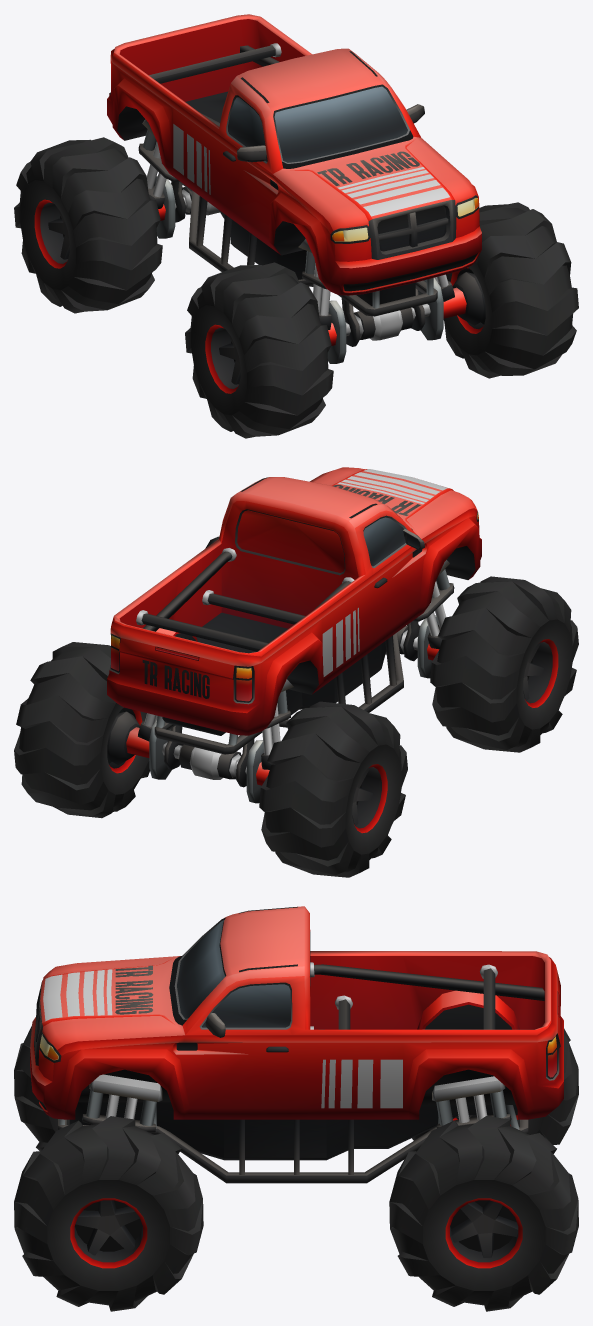
Rendered from Monster_Truck_12A.fbx.
3 views of the same model, one above another, from view 1: azimuth 30°, elevation 25°; view 2: azimuth 150°, elevation 25°; view 3: azimuth 270°, elevation 25° (orthographic). The views are drawn at different scales.
Visible parts, largest first — view 1: Monster_Truck_12A_Body, Wheel_12A_R.R, Wheel_12A_F.R, Wheel_12A_F.L, Monster_Truck_12A_Livery, Monster_Truck_12A_Suspension.F.L, Monster_Truck_12A_Suspension.R.R, Monster_Truck_12A_Suspension.F.R; view 2: Monster_Truck_12A_Body, Wheel_12A_F.R, Wheel_12A_R.R, Wheel_12A_R.L, Monster_Truck_12A_Livery, Monster_Truck_12A_Suspension.R.L, Monster_Truck_12A_Suspension.F.R, Monster_Truck_12A_Suspension.R.R; view 3: Monster_Truck_12A_Body, Wheel_12A_R.L, Wheel_12A_F.L, Monster_Truck_12A_Livery, Monster_Truck_12A_Suspension.F.L, Monster_Truck_12A_Suspension.R.L, Wheel_12A_F.R, Wheel_12A_R.R.
Part boxes in pixels (bbox=[...]): Monster_Truck_12A_Body: bbox=[107, 14, 481, 346]; Wheel_12A_R.R: bbox=[14, 137, 162, 313]; Wheel_12A_F.R: bbox=[185, 262, 333, 438]; Wheel_12A_F.L: bbox=[443, 202, 578, 378]; Monster_Truck_12A_Livery: bbox=[173, 124, 449, 216]; Monster_Truck_12A_Suspension.F.L: bbox=[418, 272, 485, 340]; Monster_Truck_12A_Suspension.R.R: bbox=[138, 119, 179, 238]; Monster_Truck_12A_Suspension.F.R: bbox=[298, 239, 346, 363]; Monster_Truck_12A_Body: bbox=[107, 467, 481, 787]; Wheel_12A_F.R: bbox=[430, 576, 578, 752]; Wheel_12A_R.R: bbox=[259, 701, 407, 877]; Wheel_12A_R.L: bbox=[14, 642, 149, 818]; Monster_Truck_12A_Livery: bbox=[142, 469, 448, 698]; Monster_Truck_12A_Suspension.R.L: bbox=[107, 711, 171, 779]; Monster_Truck_12A_Suspension.F.R: bbox=[413, 559, 454, 678]; Monster_Truck_12A_Suspension.R.R: bbox=[246, 679, 293, 803]; Monster_Truck_12A_Body: bbox=[30, 906, 563, 1183]; Wheel_12A_R.L: bbox=[389, 1116, 578, 1311]; Wheel_12A_F.L: bbox=[14, 1116, 203, 1311]; Monster_Truck_12A_Livery: bbox=[43, 965, 402, 1108]; Monster_Truck_12A_Suspension.F.L: bbox=[82, 1074, 162, 1132]; Monster_Truck_12A_Suspension.R.L: bbox=[432, 1076, 511, 1128]; Wheel_12A_F.R: bbox=[14, 1026, 69, 1151]; Wheel_12A_R.R: bbox=[412, 1028, 578, 1144].
Bounding box in the file's own units: 523 × 421 × 715.
